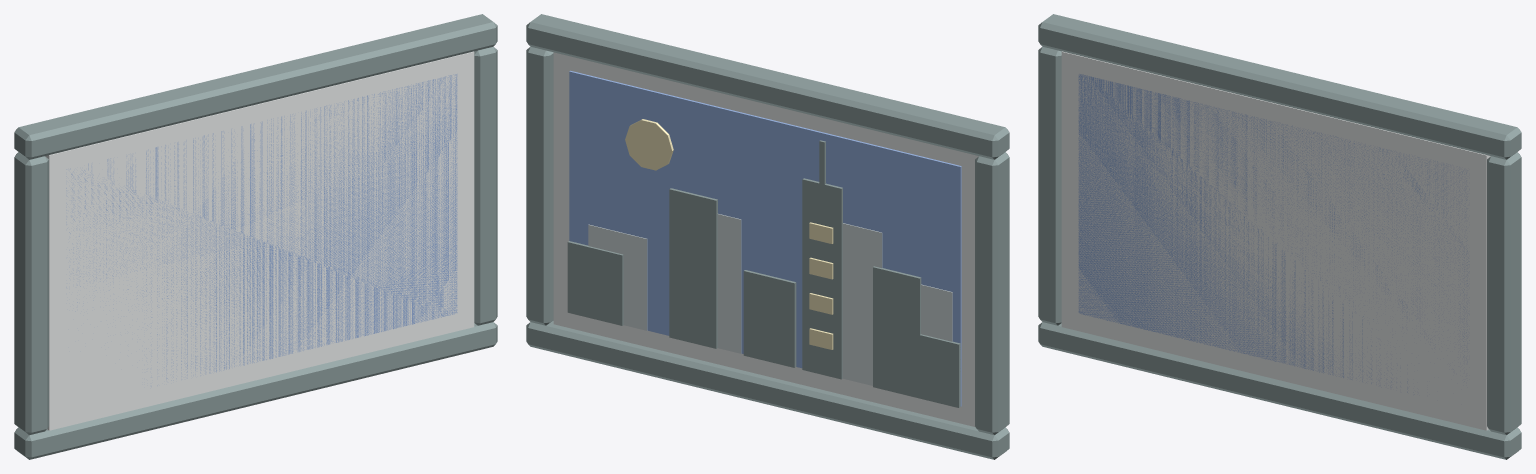
File: skyline_print.glb
3 views of the same model, side by side, from view 1: azimuth 30°, elevation 25°; view 2: azimuth 150°, elevation 25°; view 3: azimuth 330°, elevation 25° (orthographic).
Visible parts, largest first — view 1: SkylinePrint; view 2: SkylinePrint; view 3: SkylinePrint.
Boxes of the visible parts, <box> form: SkylinePrint: <box>14,14,497,459</box>; SkylinePrint: <box>526,14,1009,459</box>; SkylinePrint: <box>1038,14,1521,459</box>.
Bounding box in the file's own units: 0.6364 × 0.4182 × 0.0364.
